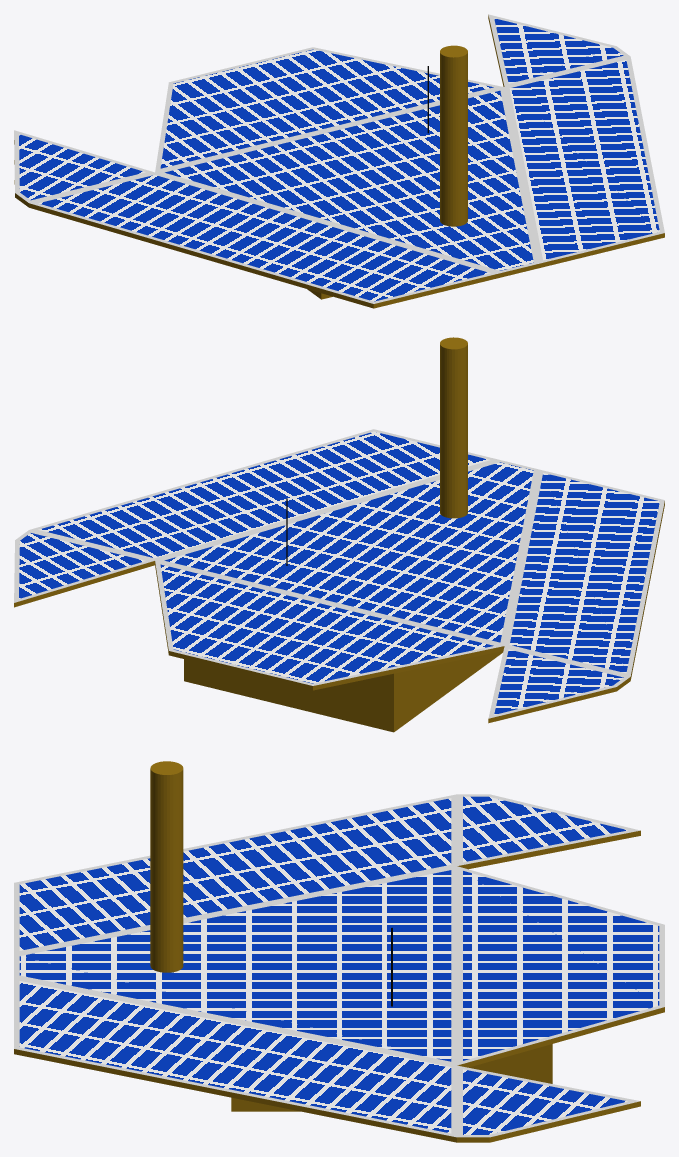
Rendered from rover.fbx.
3 views of the same model, one above another, from view 1: azimuth 30°, elevation 25°; view 2: azimuth 150°, elevation 25°; view 3: azimuth 270°, elevation 25° (orthographic). The views are drawn at different scales.
Parts seen in each view (by area): view 1: Cube; view 2: Cube; view 3: Cube.
Part boxes in pixels (x1,y1,x2,y2): Cube: [14, 14, 664, 308]; Cube: [14, 337, 664, 732]; Cube: [14, 761, 664, 1142].
Bounding box in the file's own units: 215 × 82.77 × 172.
